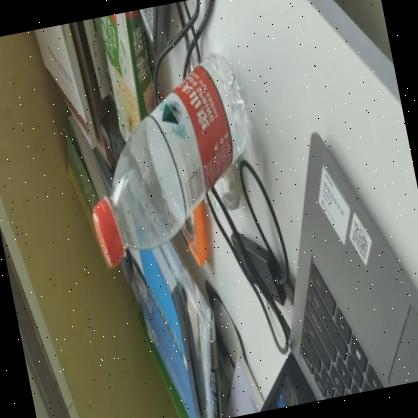bottle: (66, 52, 272, 271)
cap: (85, 195, 130, 270)
label: (148, 62, 250, 242)
